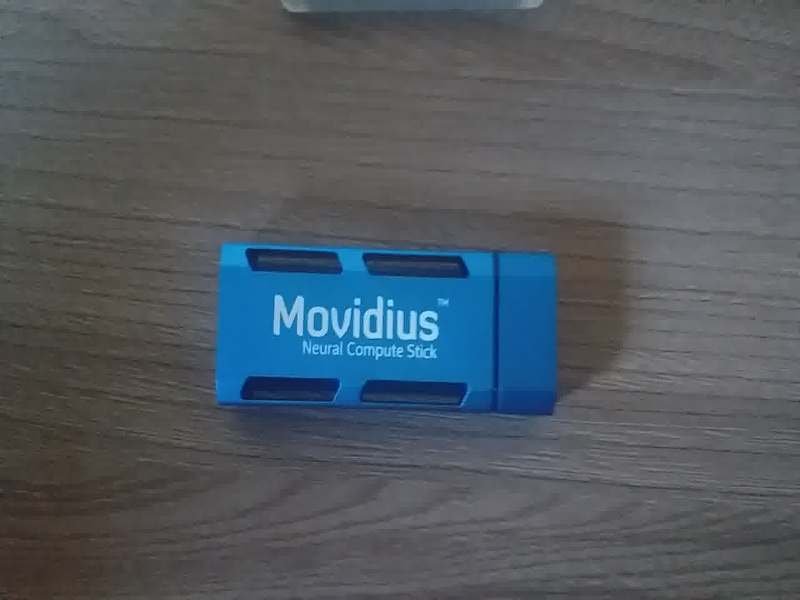movidius: (206, 232, 571, 430)
